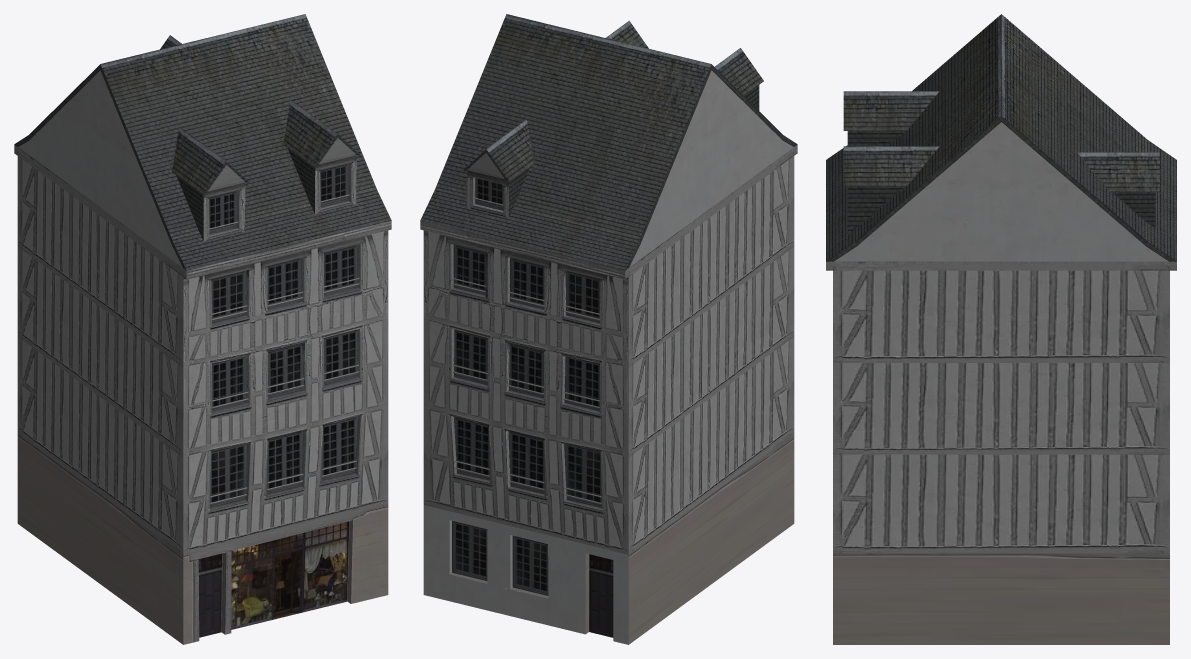
The model's file is rouen.glb.
The picture shows the model from 3 angles, left to right: view 1: azimuth 30°, elevation 25°; view 2: azimuth 150°, elevation 25°; view 3: azimuth 270°, elevation 25°; orthographic projection.
Parts seen in each view (by area): view 1: 11_11_0; view 2: 11_11_0; view 3: 11_11_0.
Part boxes in pixels (x1,y1,x2,y2): 11_11_0: (14,14,391,644); 11_11_0: (420,14,797,644); 11_11_0: (826,14,1176,644).
Bounding box in the file's own units: 7 × 16.97 × 10.2.
Materials: 1 (1 with a texture image).
